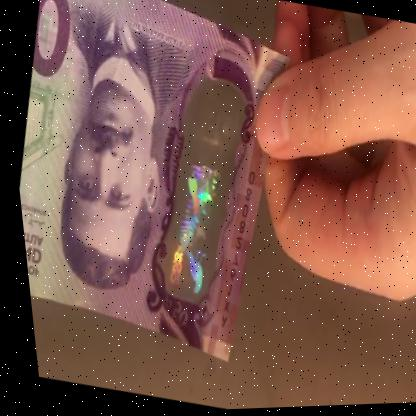50F: (141, 91, 252, 304)
